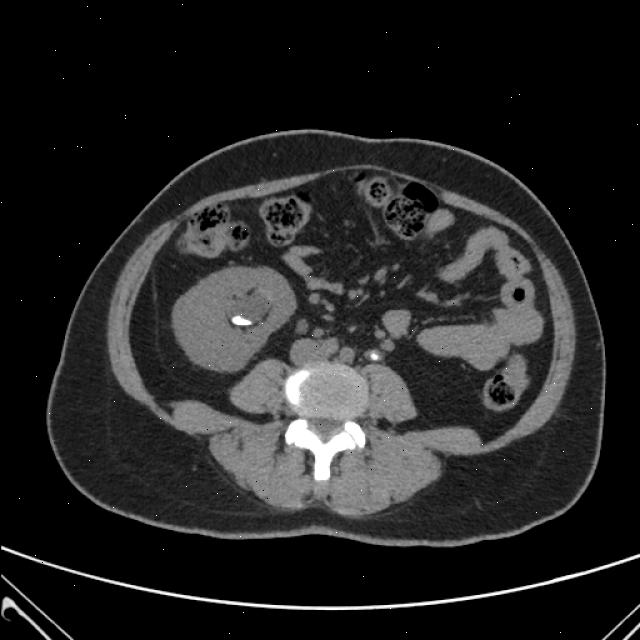kidneystone: (366, 349, 386, 363), (231, 315, 252, 327)
